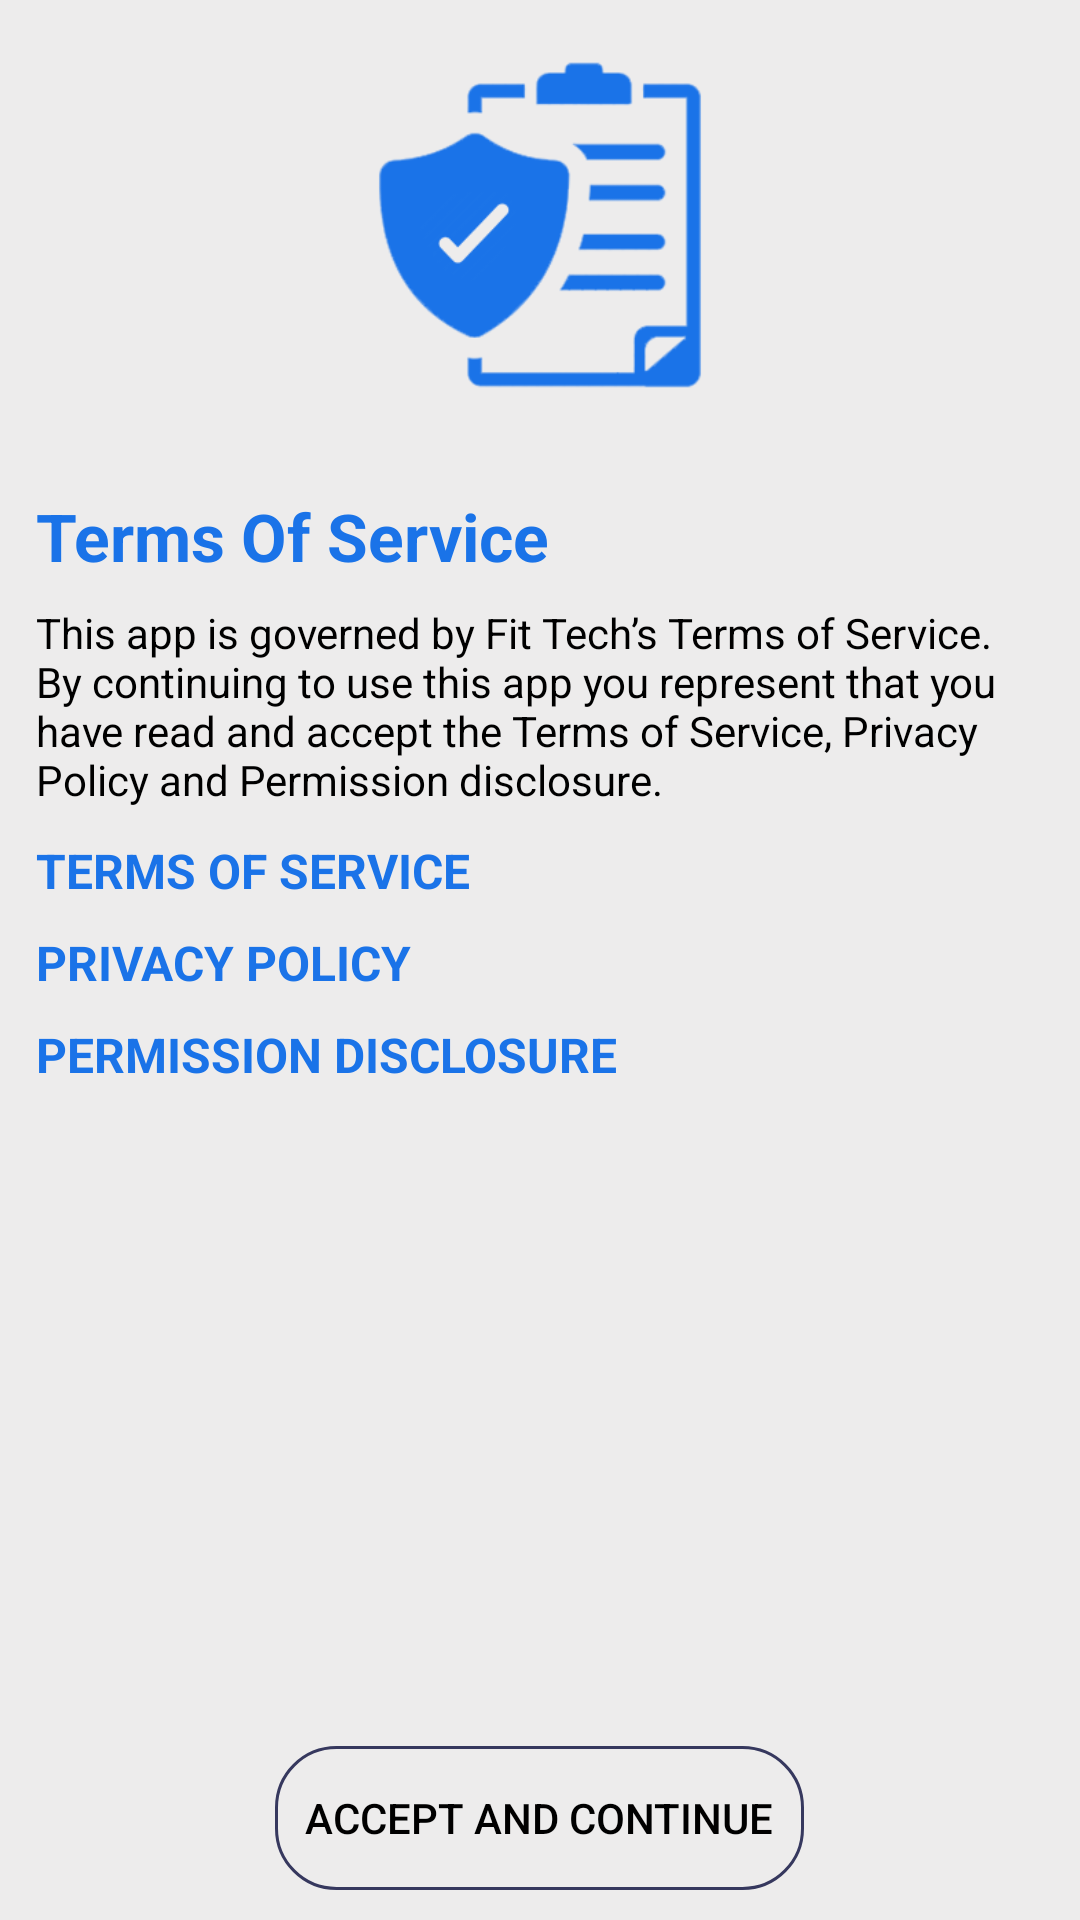

Icon bounding boxes for this 1080x1920 phone screenshot, format (x1, y1, x2, y2):
privacy policy: (379, 62, 701, 388)
